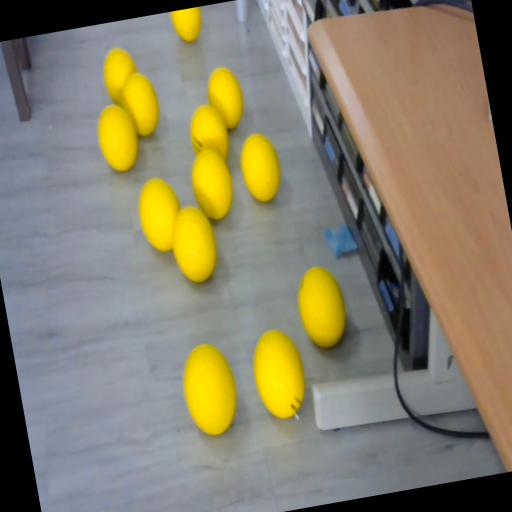FUEL: (174, 338, 242, 438), (246, 324, 312, 422), (291, 262, 350, 350), (164, 200, 222, 286), (186, 144, 238, 223), (234, 130, 284, 204), (92, 100, 142, 174), (116, 66, 164, 140), (202, 62, 248, 132), (170, 6, 205, 44)
